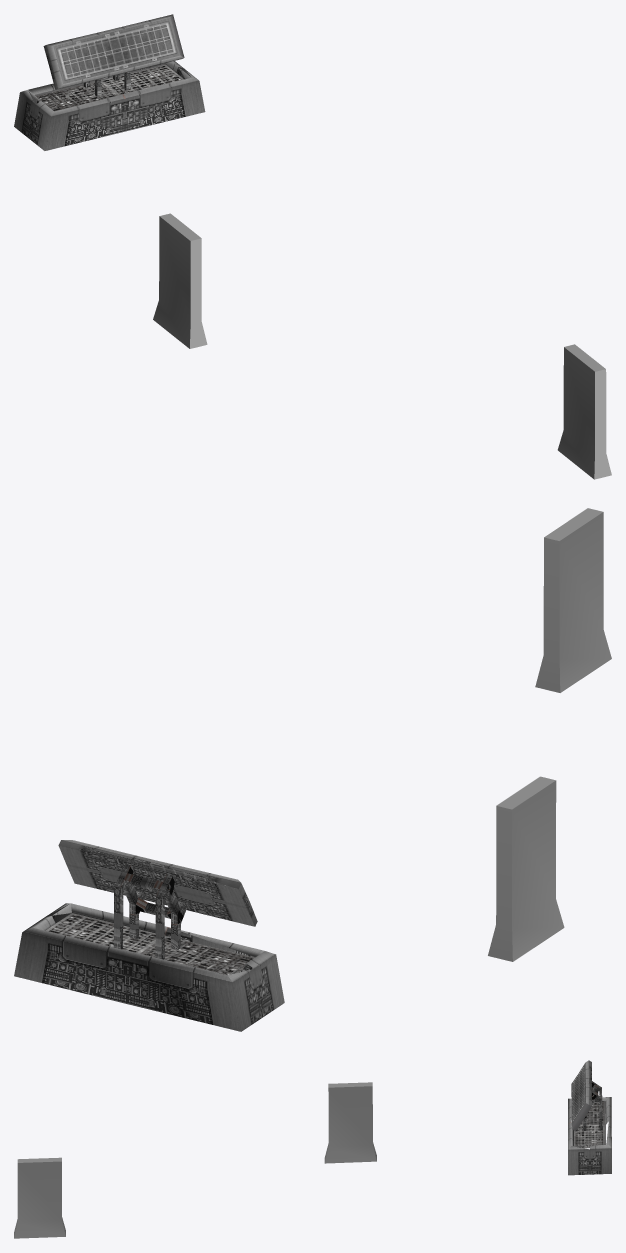
File: sort.obj
The picture shows the model from 3 angles, top to bottom: view 1: azimuth 30°, elevation 25°; view 2: azimuth 150°, elevation 25°; view 3: azimuth 270°, elevation 25°; orthographic projection. The views are drawn at different scales.
Parts seen in each view (by area): view 1: polySurface1492, polySurface313, polySurface290; view 2: polySurface1492, polySurface313, polySurface290; view 3: polySurface1492, polySurface290, polySurface313.
Part boxes in pixels (x1=…): polySurface1492: x1=14, y1=14, x2=205, y2=150; polySurface313: x1=557, y1=344, x2=611, y2=479; polySurface290: x1=153, y1=213, x2=207, y2=348; polySurface1492: x1=14, y1=840, x2=284, y2=1031; polySurface313: x1=535, y1=508, x2=611, y2=692; polySurface290: x1=488, y1=776, x2=564, y2=961; polySurface1492: x1=568, y1=1060, x2=611, y2=1175; polySurface290: x1=324, y1=1082, x2=376, y2=1163; polySurface313: x1=14, y1=1157, x2=65, y2=1238.
Bounding box in the file's own units: 0.1463 × 0.119 × 0.5253.
3 materials, 2 textured.
